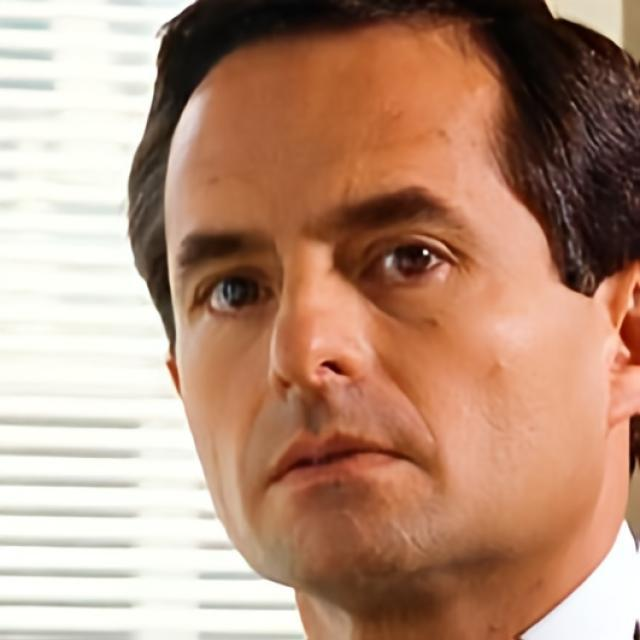neutral: (163, 2, 618, 593)
